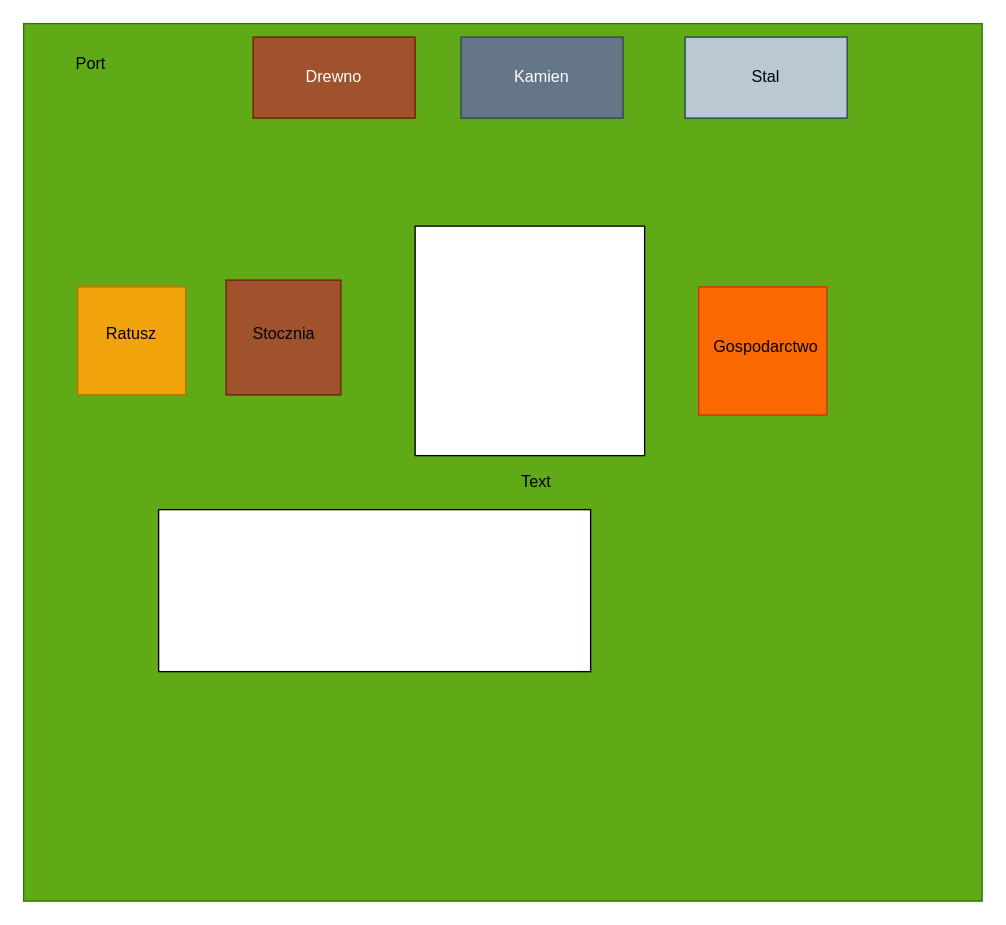
Some shapes in this 1006 by 925 pixel diagram are drawn without their labels. Each missing label, with the centre of its shape:
"Lista rozbudowy portu" goes at (374,590).
"Statek" goes at (529,340).
